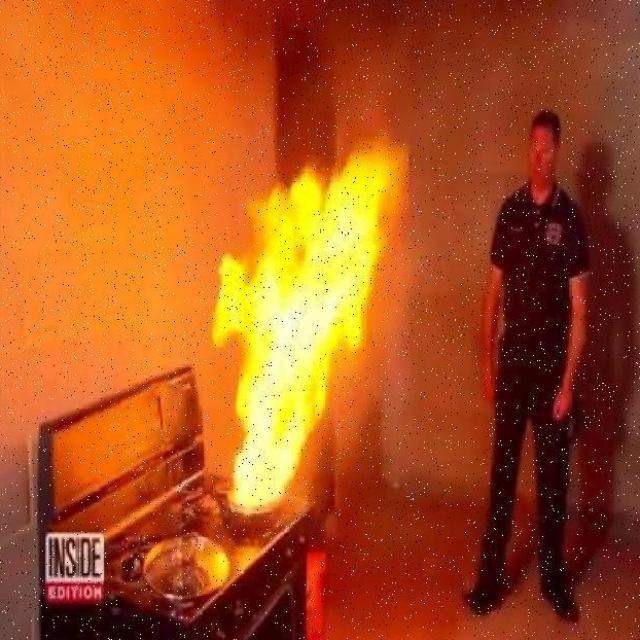smoke: (211, 134, 412, 516)
